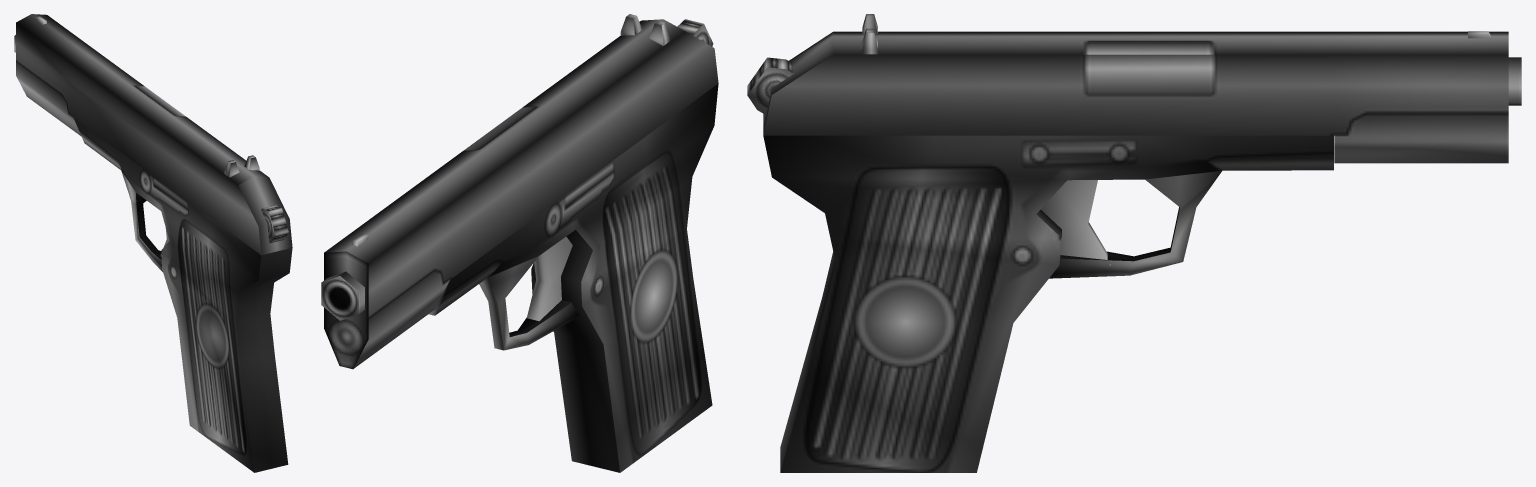
3 renders of one model, left to right at view 1: azimuth 30°, elevation 25°; view 2: azimuth 150°, elevation 25°; view 3: azimuth 270°, elevation 25°, orthographic. The views are drawn at different scales.
Parts seen in each view (by area): view 1: body, mover_slide; view 2: body, mover_slide; view 3: body, mover_slide.
Boxes of the visible parts, x1,y1,x2,y2 form: body: (14,16,292,472); mover_slide: (16,14,292,255); body: (321,14,718,472); mover_slide: (324,19,718,369); body: (747,14,1521,472); mover_slide: (763,31,1508,163).
Size of the model in its own units: 0.0177 by 0.1384 by 0.222.
Materials: 1 (1 with a texture image).
